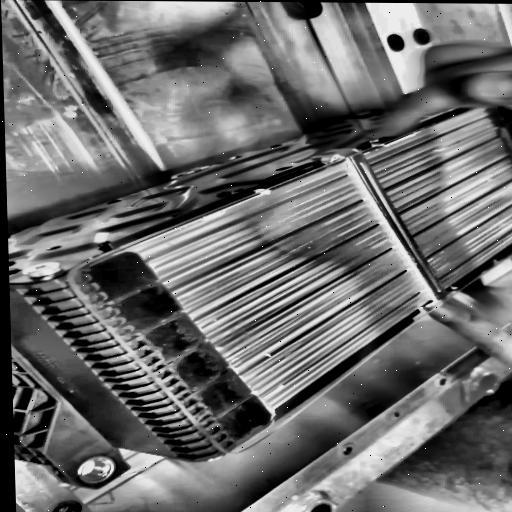battery_module: (60, 102, 512, 456)
